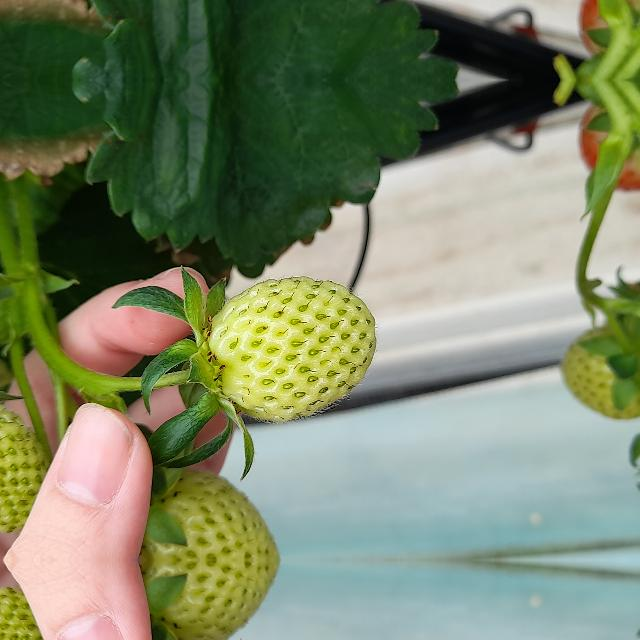Health_25: (204, 276, 376, 422)
